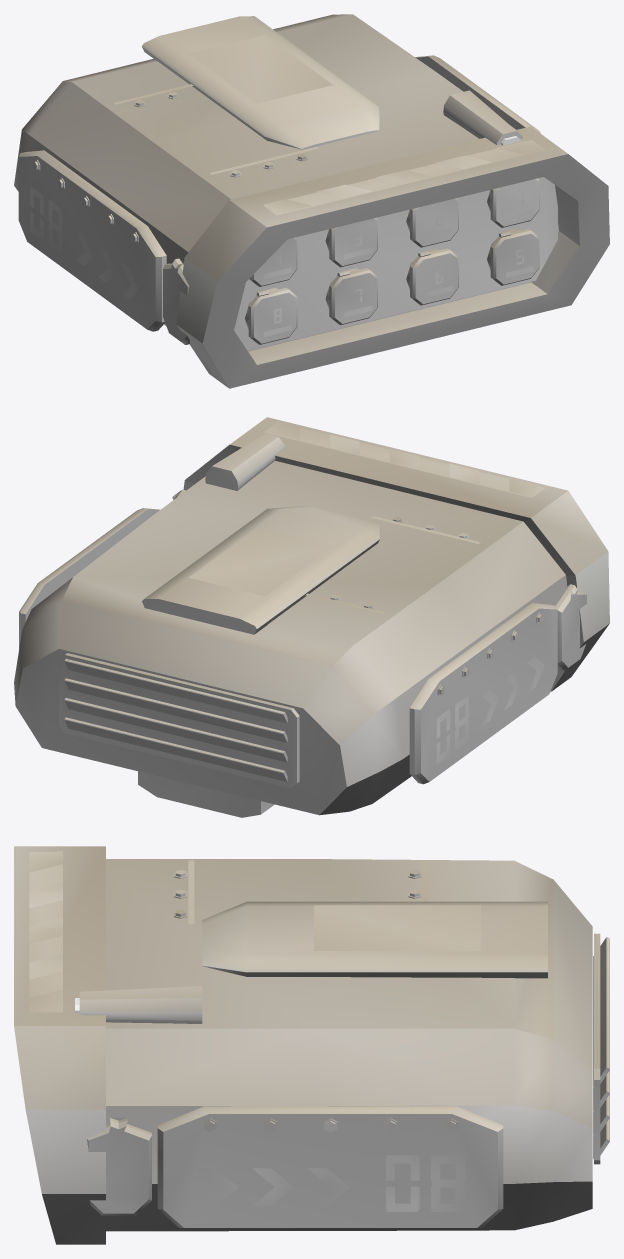
File: missile-pod-m-left.glb
3 renders of one model, top to bottom at view 1: azimuth 30°, elevation 25°; view 2: azimuth 150°, elevation 25°; view 3: azimuth 270°, elevation 25°, orthographic. The views are drawn at different scales.
Visible parts, largest first — view 1: Body, Door_7, Door_4, Door_5, Door_6, Door_0, Door_1, Door_2, Door_3; view 2: Body; view 3: Body.
Boxes of the visible parts, x1,y1,x2,y2 form: Body: (14,14,609,388); Door_7: (248,287,297,344); Door_4: (490,228,539,285); Door_5: (410,248,458,305); Door_6: (329,268,377,325); Door_0: (490,178,539,227); Door_1: (410,198,458,247); Door_2: (329,217,377,267); Door_3: (249,237,297,286); Body: (14,417,609,817); Body: (14,846,609,1244).
Bounding box in the file's own units: 0.7652 × 0.3813 × 0.791.
